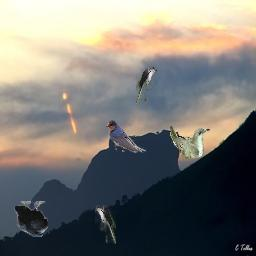Crow: (14, 201, 48, 237)
Cuckoo: (170, 125, 210, 160), (95, 204, 116, 244), (136, 65, 157, 105)
Swallow: (106, 119, 146, 153)
